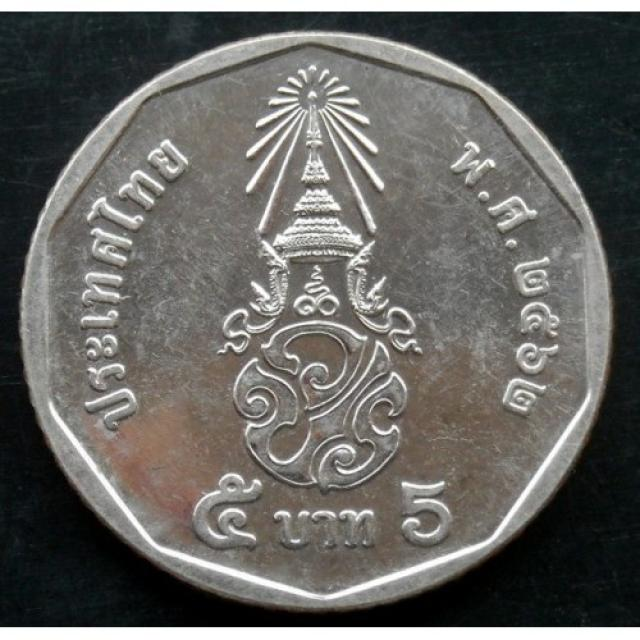5 Bath: (17, 32, 620, 615)
